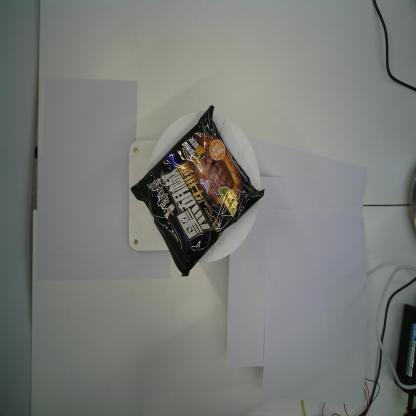Instant Noodles: (129, 105, 265, 277)
